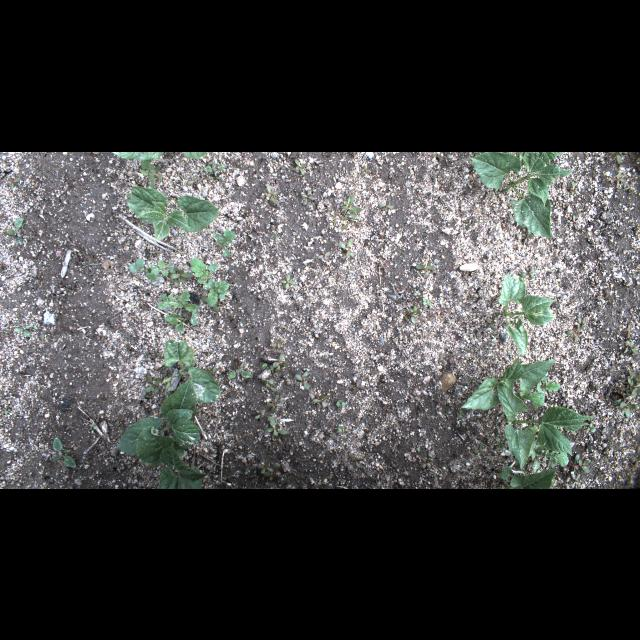crop: (470, 152, 572, 238), (496, 382, 592, 470), (116, 378, 200, 466), (126, 185, 218, 242), (496, 274, 556, 356), (462, 356, 556, 408), (161, 339, 219, 401), (158, 442, 212, 488), (520, 468, 558, 488), (166, 313, 186, 333), (112, 152, 164, 158), (182, 152, 212, 158)
weed: (157, 290, 199, 324), (516, 376, 560, 408), (530, 440, 568, 472), (612, 388, 638, 418), (190, 257, 218, 283), (211, 228, 235, 256), (54, 437, 76, 467), (205, 278, 228, 306), (130, 258, 156, 282), (140, 158, 162, 186), (500, 466, 526, 488), (7, 217, 23, 246), (568, 453, 590, 472), (228, 362, 254, 378), (267, 416, 287, 436), (150, 260, 174, 276), (341, 194, 361, 212), (416, 259, 434, 277), (614, 382, 640, 394), (170, 268, 192, 282), (566, 323, 582, 342), (146, 374, 162, 392), (294, 371, 310, 389), (263, 462, 279, 480), (266, 395, 284, 411), (338, 238, 354, 256), (266, 184, 280, 204), (13, 324, 33, 338), (274, 352, 288, 372), (280, 273, 296, 289), (202, 296, 220, 310), (202, 160, 226, 170), (625, 370, 639, 386), (409, 305, 421, 323), (294, 157, 306, 175), (312, 394, 330, 406), (258, 461, 274, 474), (349, 454, 363, 468), (302, 188, 314, 204), (520, 266, 536, 278), (7, 177, 21, 190), (623, 341, 637, 354), (608, 151, 622, 163), (616, 170, 626, 186), (342, 210, 358, 220), (474, 442, 486, 454), (170, 268, 178, 286), (208, 170, 222, 180), (571, 473, 581, 487), (576, 316, 586, 329), (149, 346, 161, 356), (262, 362, 274, 372), (570, 215, 578, 228), (272, 338, 282, 348), (162, 368, 172, 378), (486, 318, 496, 328), (187, 176, 199, 184), (318, 250, 330, 258), (280, 324, 292, 332), (255, 409, 265, 418), (332, 212, 341, 222), (362, 165, 371, 175), (422, 458, 430, 469), (379, 202, 393, 208), (456, 410, 464, 420), (422, 297, 432, 305), (37, 333, 45, 343), (66, 421, 74, 431), (206, 366, 216, 374), (268, 370, 278, 378), (586, 414, 594, 424), (468, 377, 478, 385), (262, 377, 274, 383), (5, 404, 12, 414), (336, 399, 346, 406), (338, 423, 344, 433), (588, 422, 594, 432), (266, 384, 274, 391), (628, 324, 632, 338), (571, 180, 575, 194), (244, 467, 250, 475), (166, 391, 170, 397), (637, 312, 639, 321), (180, 233, 188, 235), (414, 292, 420, 294), (275, 238, 279, 240)
